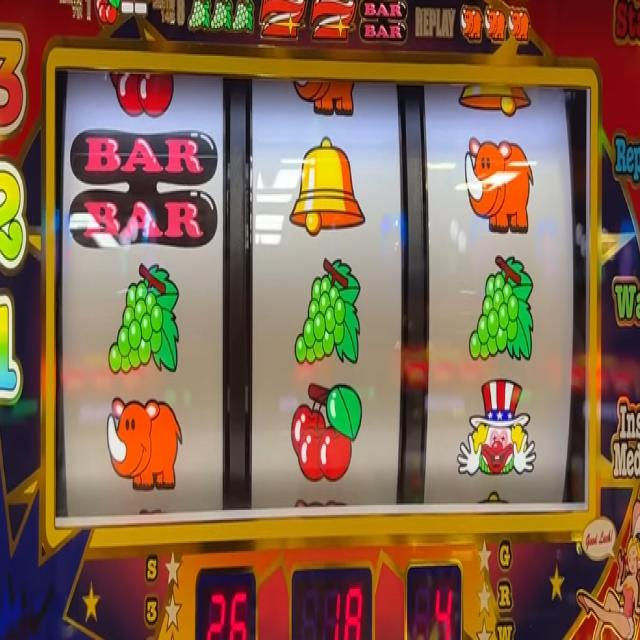bar: (70, 121, 218, 249), (358, 0, 408, 44)
bell: (289, 132, 365, 238), (458, 82, 533, 125)
cherry: (290, 379, 365, 487), (106, 72, 177, 118), (93, 0, 120, 27)
clown: (456, 376, 536, 486)
display: (51, 63, 591, 510)
elephant: (105, 395, 184, 489), (463, 132, 533, 235), (288, 77, 358, 117), (458, 6, 484, 42), (510, 8, 532, 45), (484, 7, 506, 42)
grape: (108, 262, 180, 380), (466, 251, 536, 365), (295, 256, 360, 370), (230, 0, 256, 35), (186, 0, 211, 33), (209, 0, 232, 32)
z: (258, 0, 306, 43), (309, 0, 354, 45)
